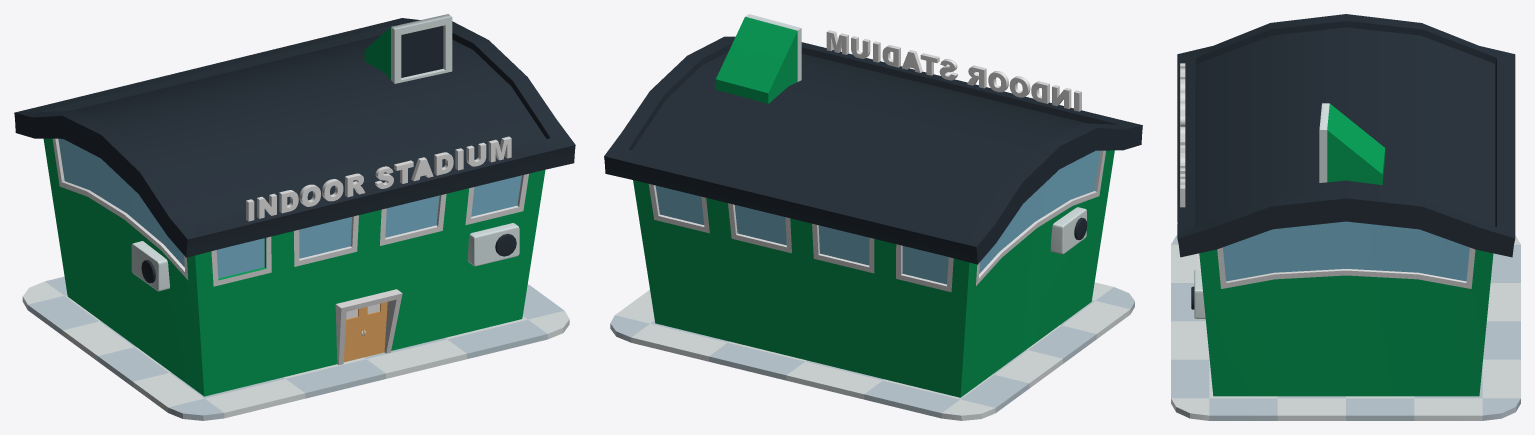
Rendered from indoor stadium.fbx.
The picture shows the model from 3 angles, left to right: view 1: azimuth 30°, elevation 25°; view 2: azimuth 150°, elevation 25°; view 3: azimuth 270°, elevation 25°; orthographic projection. The views are drawn at different scales.
Parts seen in each view (by area): view 1: basketball_duilding, floor, Indoor_Stadium, polySurface15, polySurface16; view 2: basketball_duilding, floor, Indoor_Stadium; view 3: basketball_duilding, floor, Indoor_Stadium.
Part boxes in pixels (box(x1,y1,x2,y2)): basketball_duilding: box(14, 14, 575, 396); floor: box(22, 276, 569, 420); Indoor_Stadium: box(246, 136, 511, 221); polySurface15: box(363, 302, 387, 357); polySurface16: box(343, 308, 365, 362); basketball_duilding: box(604, 14, 1142, 397); floor: box(610, 282, 1134, 420); Indoor_Stadium: box(826, 30, 1081, 111); basketball_duilding: box(1177, 14, 1515, 396); floor: box(1171, 235, 1520, 420); Indoor_Stadium: box(1180, 63, 1185, 207).
Bounding box in the file's own units: 2922 × 1911 × 2292.
